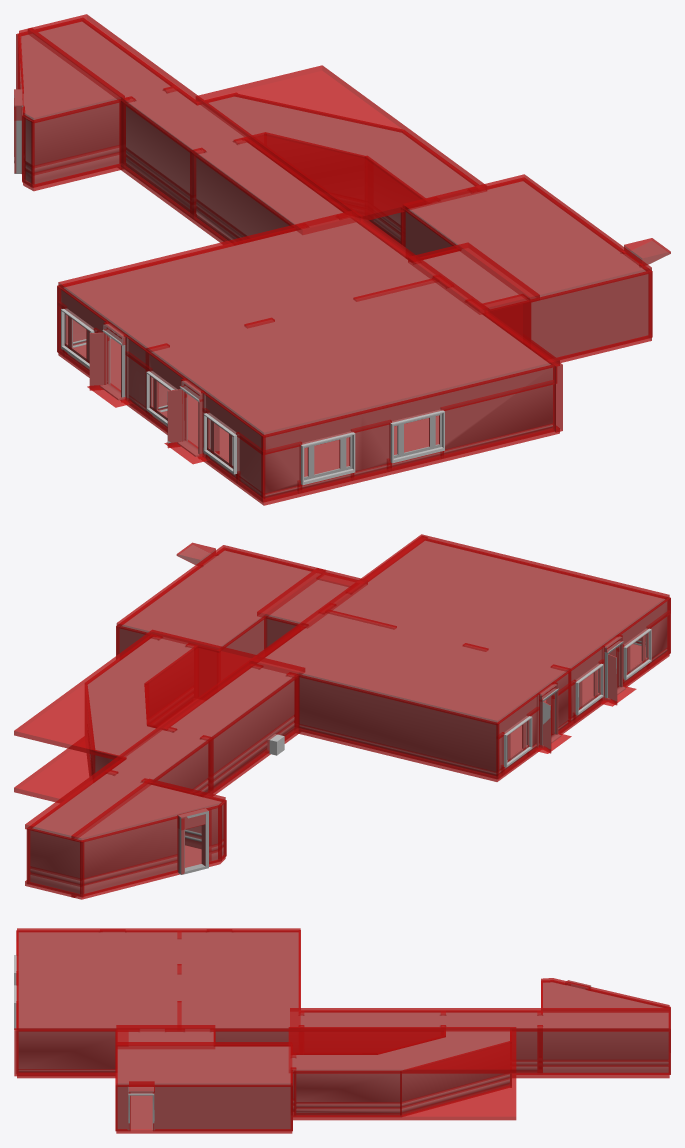
Rendered from CT_Interior_002.dae.
The picture shows the model from 3 angles, top to bottom: view 1: azimuth 30°, elevation 25°; view 2: azimuth 150°, elevation 25°; view 3: azimuth 270°, elevation 25°; orthographic projection. The views are drawn at different scales.
Visible parts, largest first — view 1: colmesh-2, _002_int100; view 2: colmesh-2, _002_int100; view 3: colmesh-2, _002_int100.
Boxes of the visible parts, box(x1,y1,x2,y2) form: colmesh-2: box(14, 14, 670, 505); _002_int100: box(14, 21, 670, 497); colmesh-2: box(14, 534, 670, 899); _002_int100: box(30, 541, 667, 893); colmesh-2: box(14, 928, 670, 1133); _002_int100: box(14, 932, 668, 1130).
Bounding box in the file's own units: 256 × 36.67 × 417.
